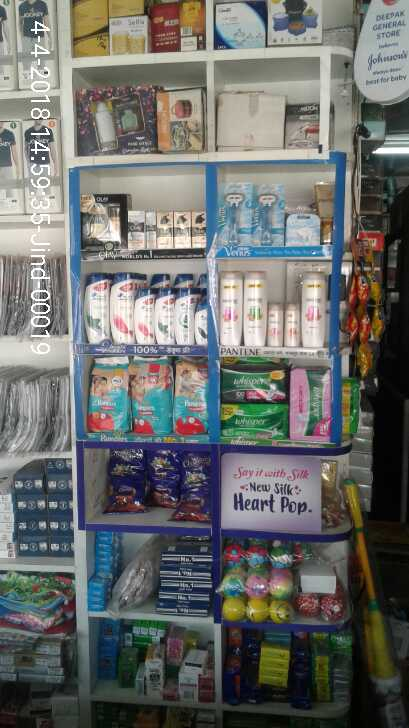venus: (253, 183, 286, 247), (221, 183, 253, 247), (286, 212, 321, 247)
